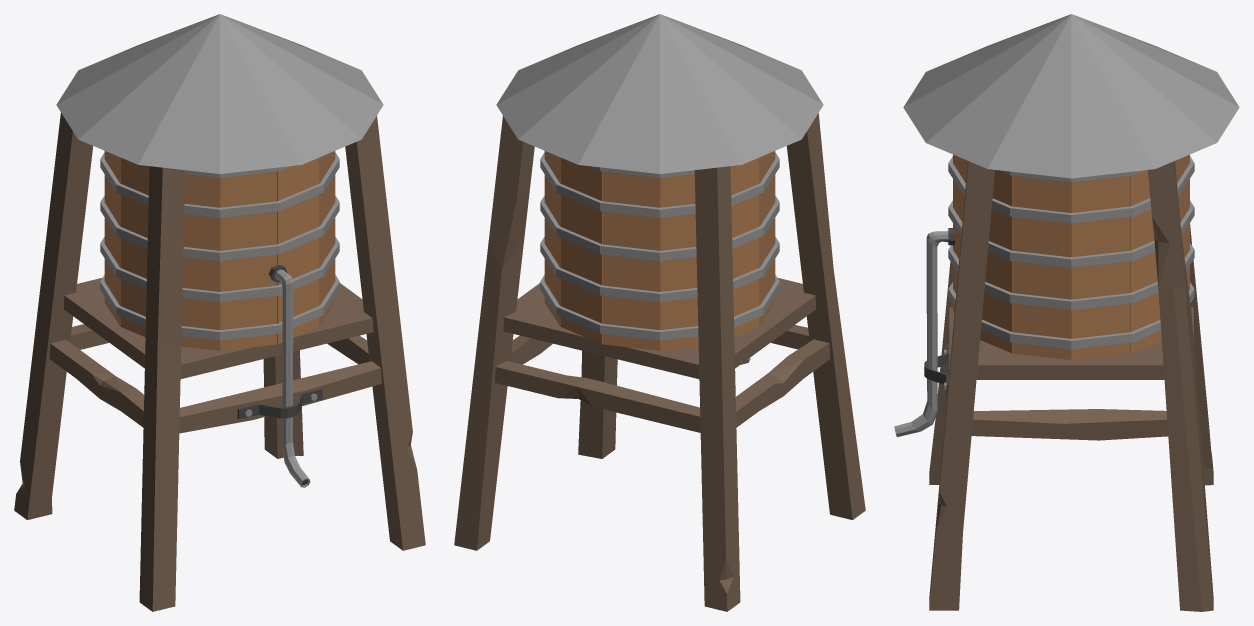
File: Water_tower_1.fbx
The picture shows the model from 3 angles, left to right: view 1: azimuth 30°, elevation 25°; view 2: azimuth 150°, elevation 25°; view 3: azimuth 270°, elevation 25°; orthographic projection. The views are drawn at different scales.
Parts seen in each view (by area): view 1: Water_tower_1; view 2: Water_tower_1; view 3: Water_tower_1.
Boxes of the visible parts, x1=… form: Water_tower_1: x1=14, y1=14, x2=425, y2=611; Water_tower_1: x1=454, y1=14, x2=865, y2=611; Water_tower_1: x1=894, y1=14, x2=1239, y2=611.
Bounding box in the file's own units: 259 × 266 × 449.
